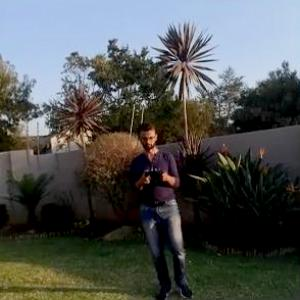follow: (126, 118, 196, 299)
